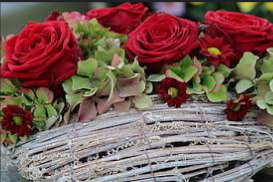RedRose: (1, 15, 82, 86), (125, 12, 196, 70), (205, 3, 273, 56), (85, 1, 146, 32)
